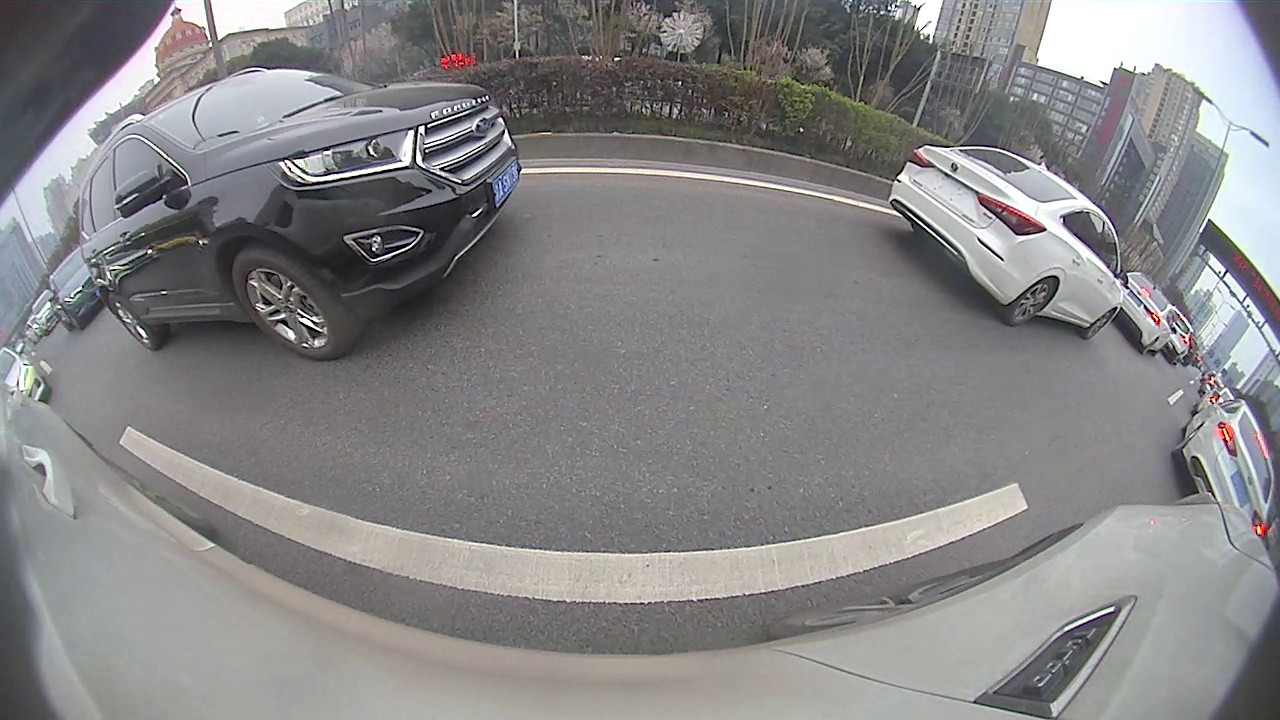car: (76, 65, 523, 361), (886, 142, 1133, 343), (1172, 393, 1277, 536), (1117, 270, 1182, 358), (47, 246, 105, 332)
front: (232, 245, 356, 361), (1083, 306, 1118, 339)
rear: (109, 293, 160, 350), (1007, 277, 1059, 329)
